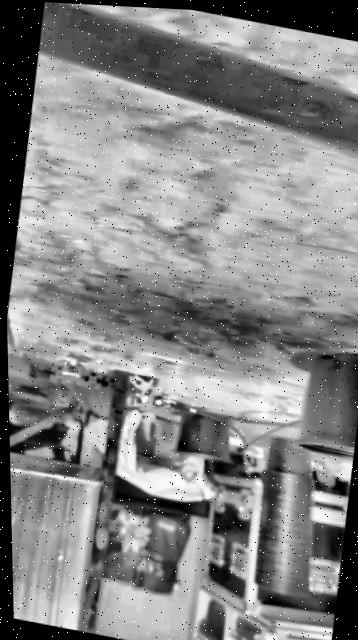pot: (292, 343, 358, 461), (172, 408, 235, 463)
